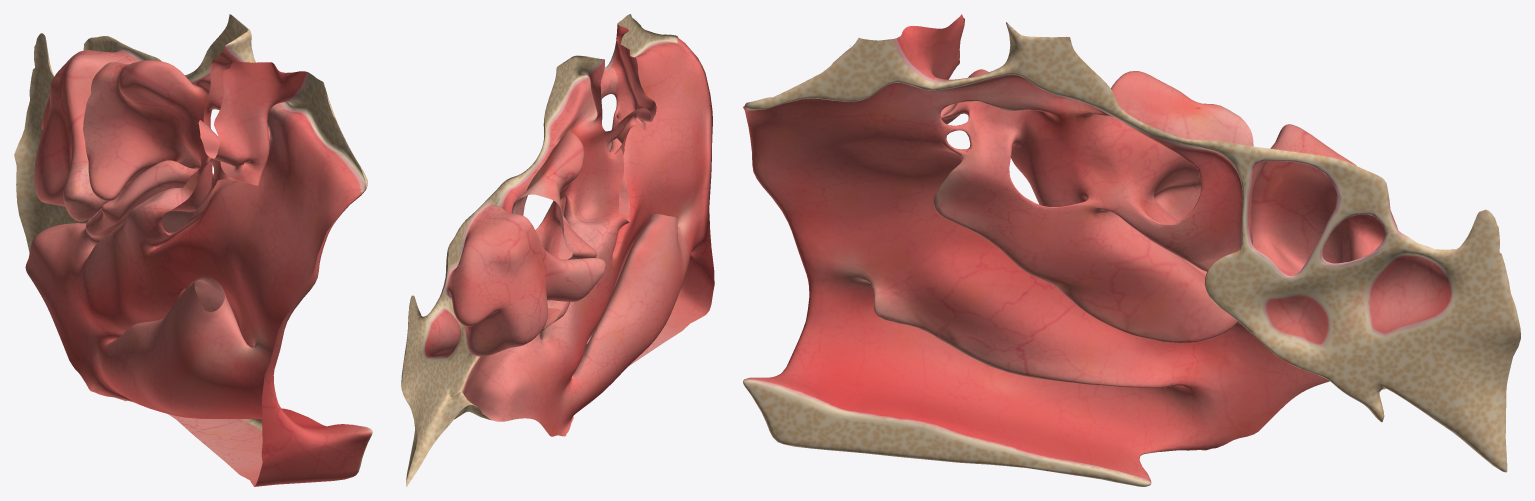
The model's file is Nose_data.fbx.
3 views of the same model, side by side, from view 1: azimuth 30°, elevation 25°; view 2: azimuth 150°, elevation 25°; view 3: azimuth 270°, elevation 25° (orthographic). The views are drawn at different scales.
Visible parts, largest first — view 1: nose_data_Z; view 2: nose_data_Z; view 3: nose_data_Z.
Part boxes in pixels (box(x1,y1,x2,y2)): nose_data_Z: box(14, 14, 372, 486); nose_data_Z: box(401, 14, 714, 486); nose_data_Z: box(743, 14, 1520, 486).
Bounding box in the file's own units: 1.77 × 6.02 × 9.36.
1 material, 1 textured.
